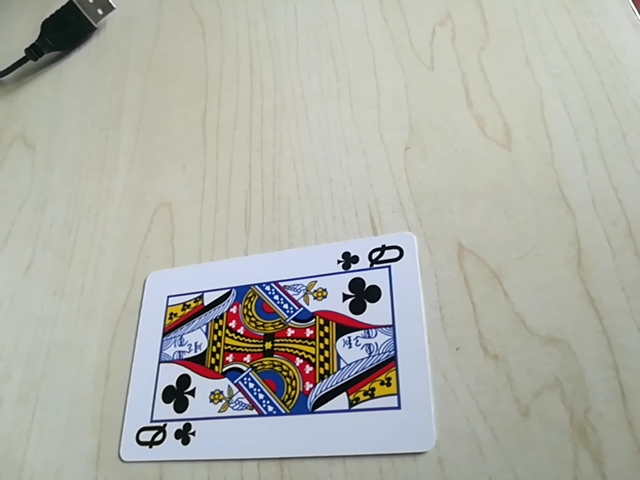mh q: (129, 419, 196, 458), (334, 241, 408, 274)
